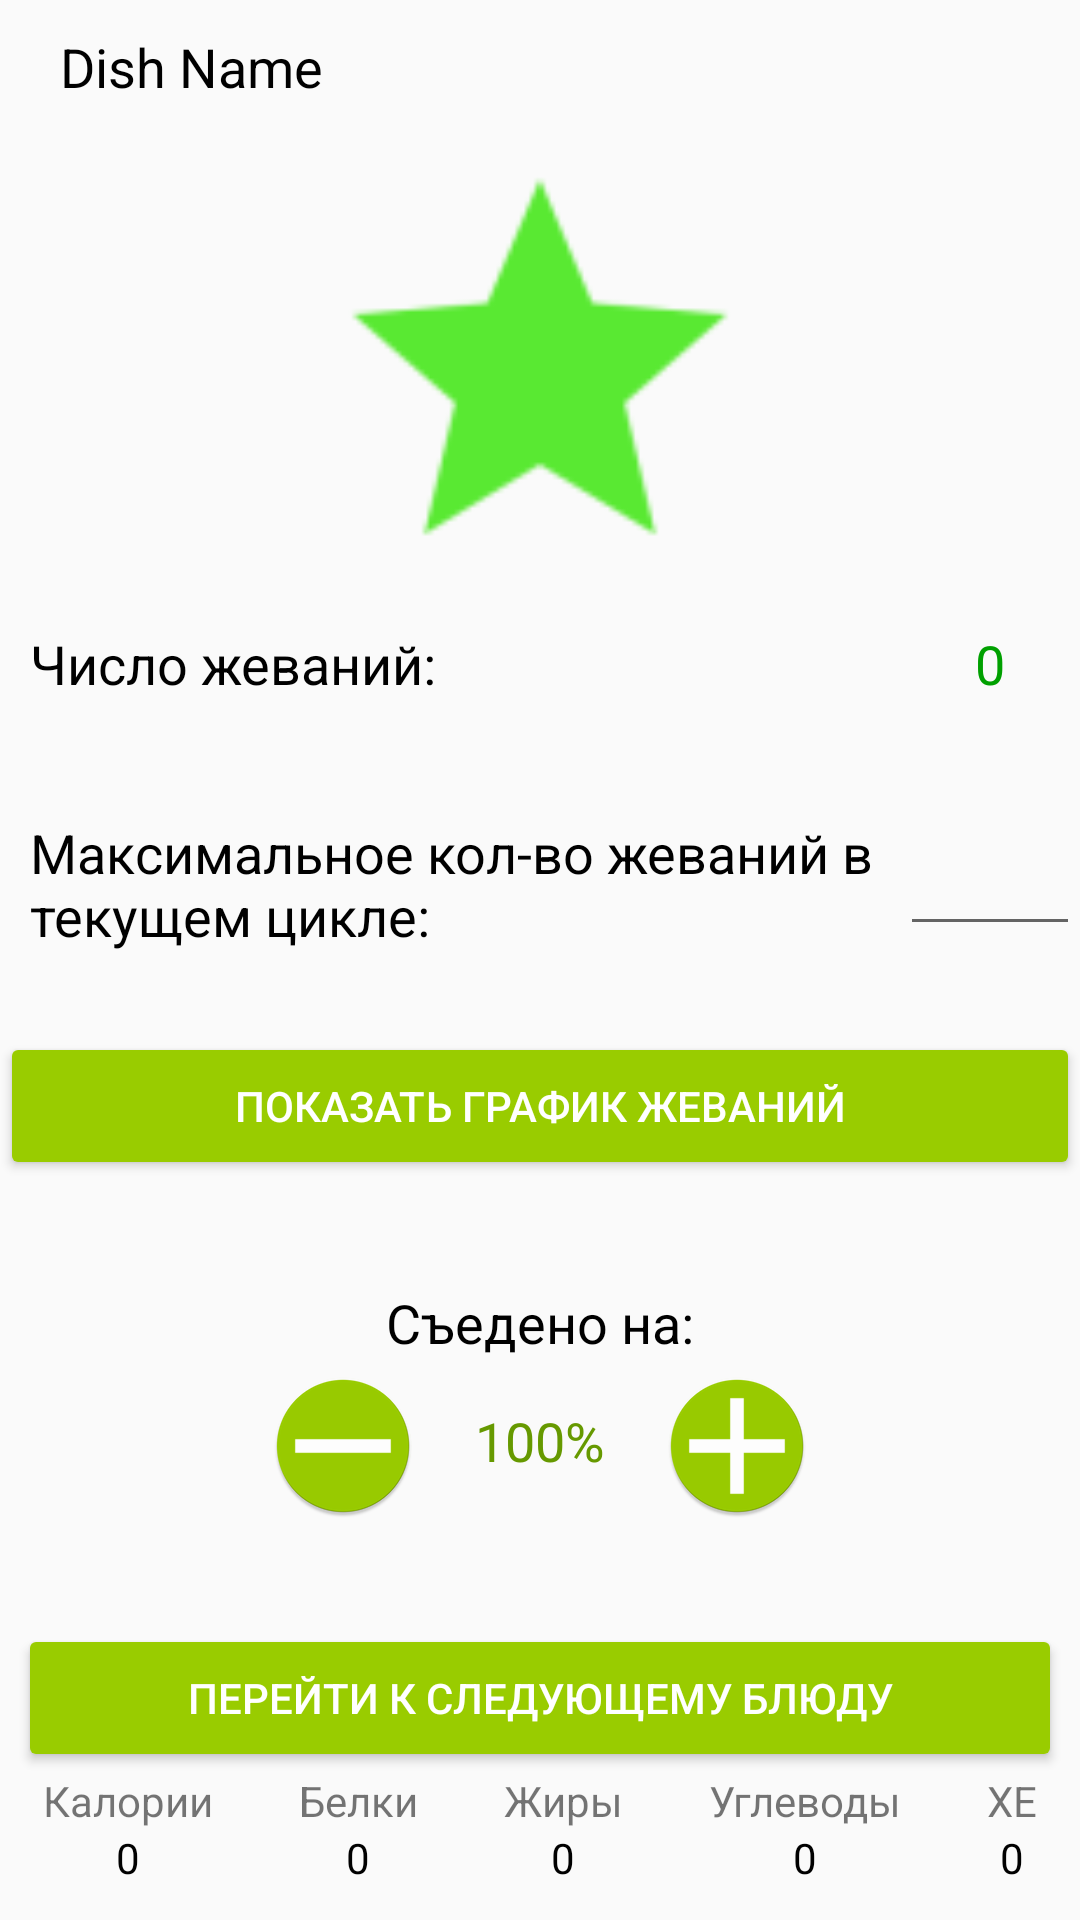

Icon click points for this 1080×1920 phone screenshot, format point (x, y):
minus: point (343, 1447)
plus: point (737, 1447)
